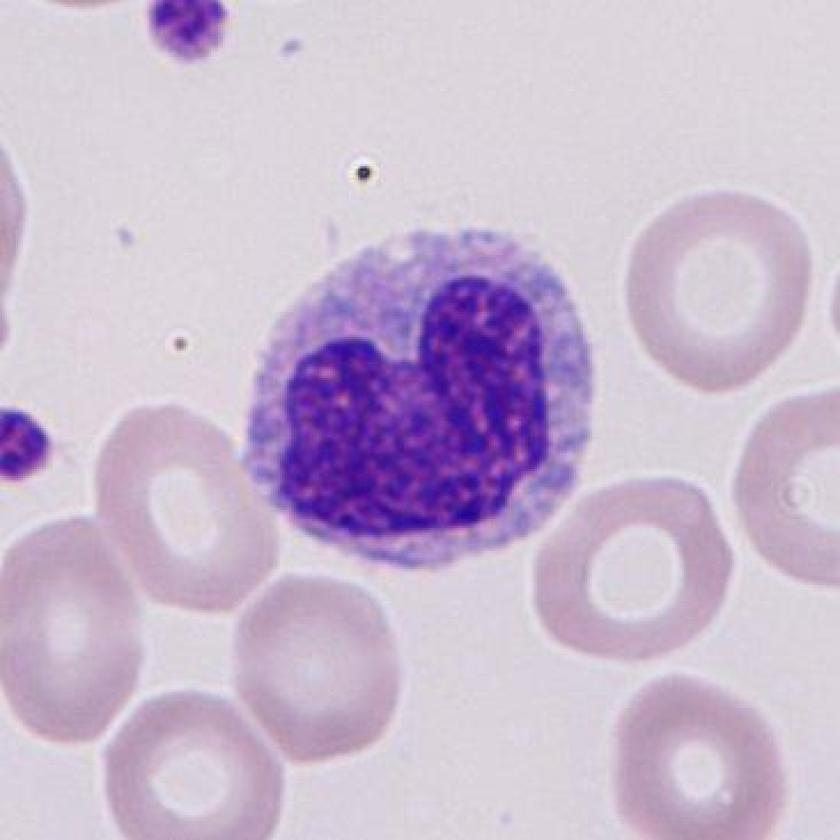monocyte: (224, 206, 619, 586)
